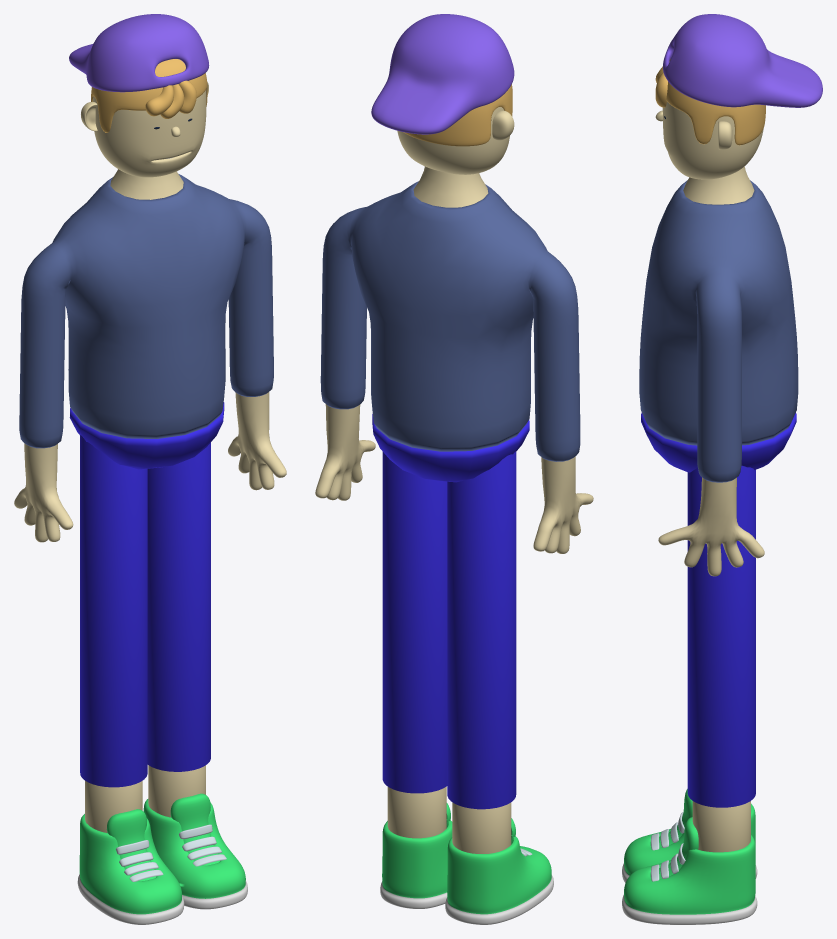
The model's file is cpr-doll-arms-down.fbx.
The picture shows the model from 3 angles, left to right: view 1: azimuth 30°, elevation 25°; view 2: azimuth 150°, elevation 25°; view 3: azimuth 270°, elevation 25°; orthographic projection. The views are drawn at different scales.
Parts seen in each view (by area): view 1: Jumper, Trousers Legs, Shoe, Torso, Hat, Head, Trousers, Cube.001, Hair, Fringe3, NurbsPath.002, NurbsPath.003; view 2: Jumper, Trousers Legs, Hat, Shoe, Torso, Trousers, Head, Hair; view 3: Jumper, Trousers Legs, Hat, Shoe, Torso, Head, Hair, Trousers, Cube.001.
Part boxes in pixels (bbox=[...]): Jumper: bbox=[19, 174, 273, 448]; Trousers Legs: bbox=[80, 435, 210, 832]; Shoe: bbox=[77, 799, 247, 924]; Torso: bbox=[14, 169, 286, 542]; Hat: bbox=[69, 14, 209, 92]; Head: bbox=[93, 90, 206, 177]; Trousers: bbox=[69, 402, 224, 469]; Cube.001: bbox=[106, 793, 219, 881]; Hair: bbox=[91, 59, 207, 132]; Fringe3: bbox=[145, 80, 196, 118]; NurbsPath.002: bbox=[119, 836, 216, 866]; NurbsPath.003: bbox=[116, 824, 212, 854]; Jumper: bbox=[320, 181, 580, 461]; Trousers Legs: bbox=[382, 451, 516, 853]; Hat: bbox=[371, 14, 514, 134]; Shoe: bbox=[380, 819, 553, 924]; Torso: bbox=[315, 166, 593, 553]; Trousers: bbox=[372, 414, 529, 482]; Head: bbox=[397, 107, 509, 174]; Hair: bbox=[403, 84, 512, 146]; Jumper: bbox=[639, 180, 798, 482]; Trousers Legs: bbox=[687, 465, 755, 852]; Hat: bbox=[663, 14, 822, 107]; Shoe: bbox=[622, 803, 757, 924]; Torso: bbox=[658, 166, 764, 576]; Head: bbox=[662, 102, 763, 179]; Hair: bbox=[666, 59, 765, 145]; Trousers: bbox=[641, 412, 796, 472]; Cube.001: bbox=[650, 789, 698, 878].
Bounding box in the file's own units: 79.1 × 262 × 54.8.
